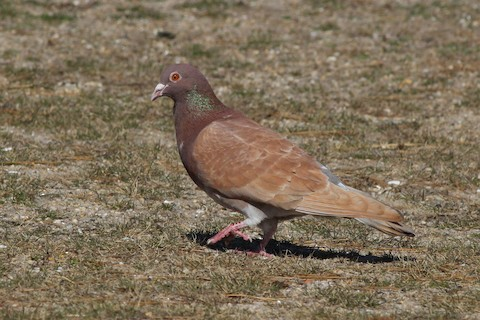pigeon: (148, 57, 420, 260)
